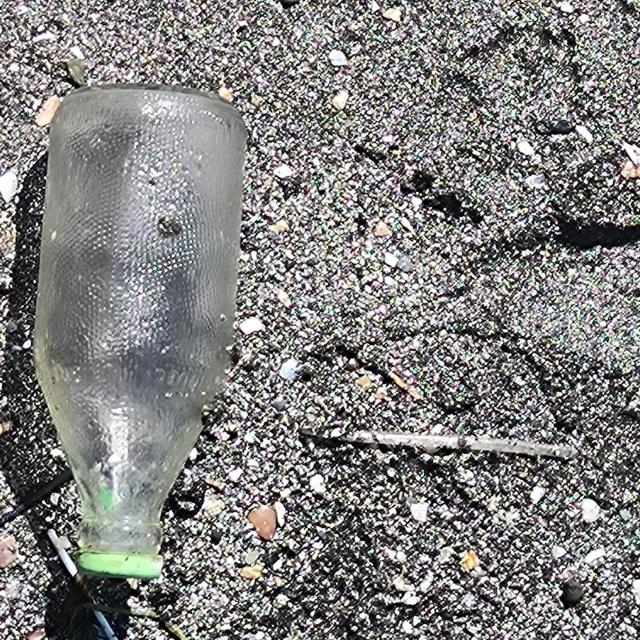glass_waste: (30, 82, 250, 582)
